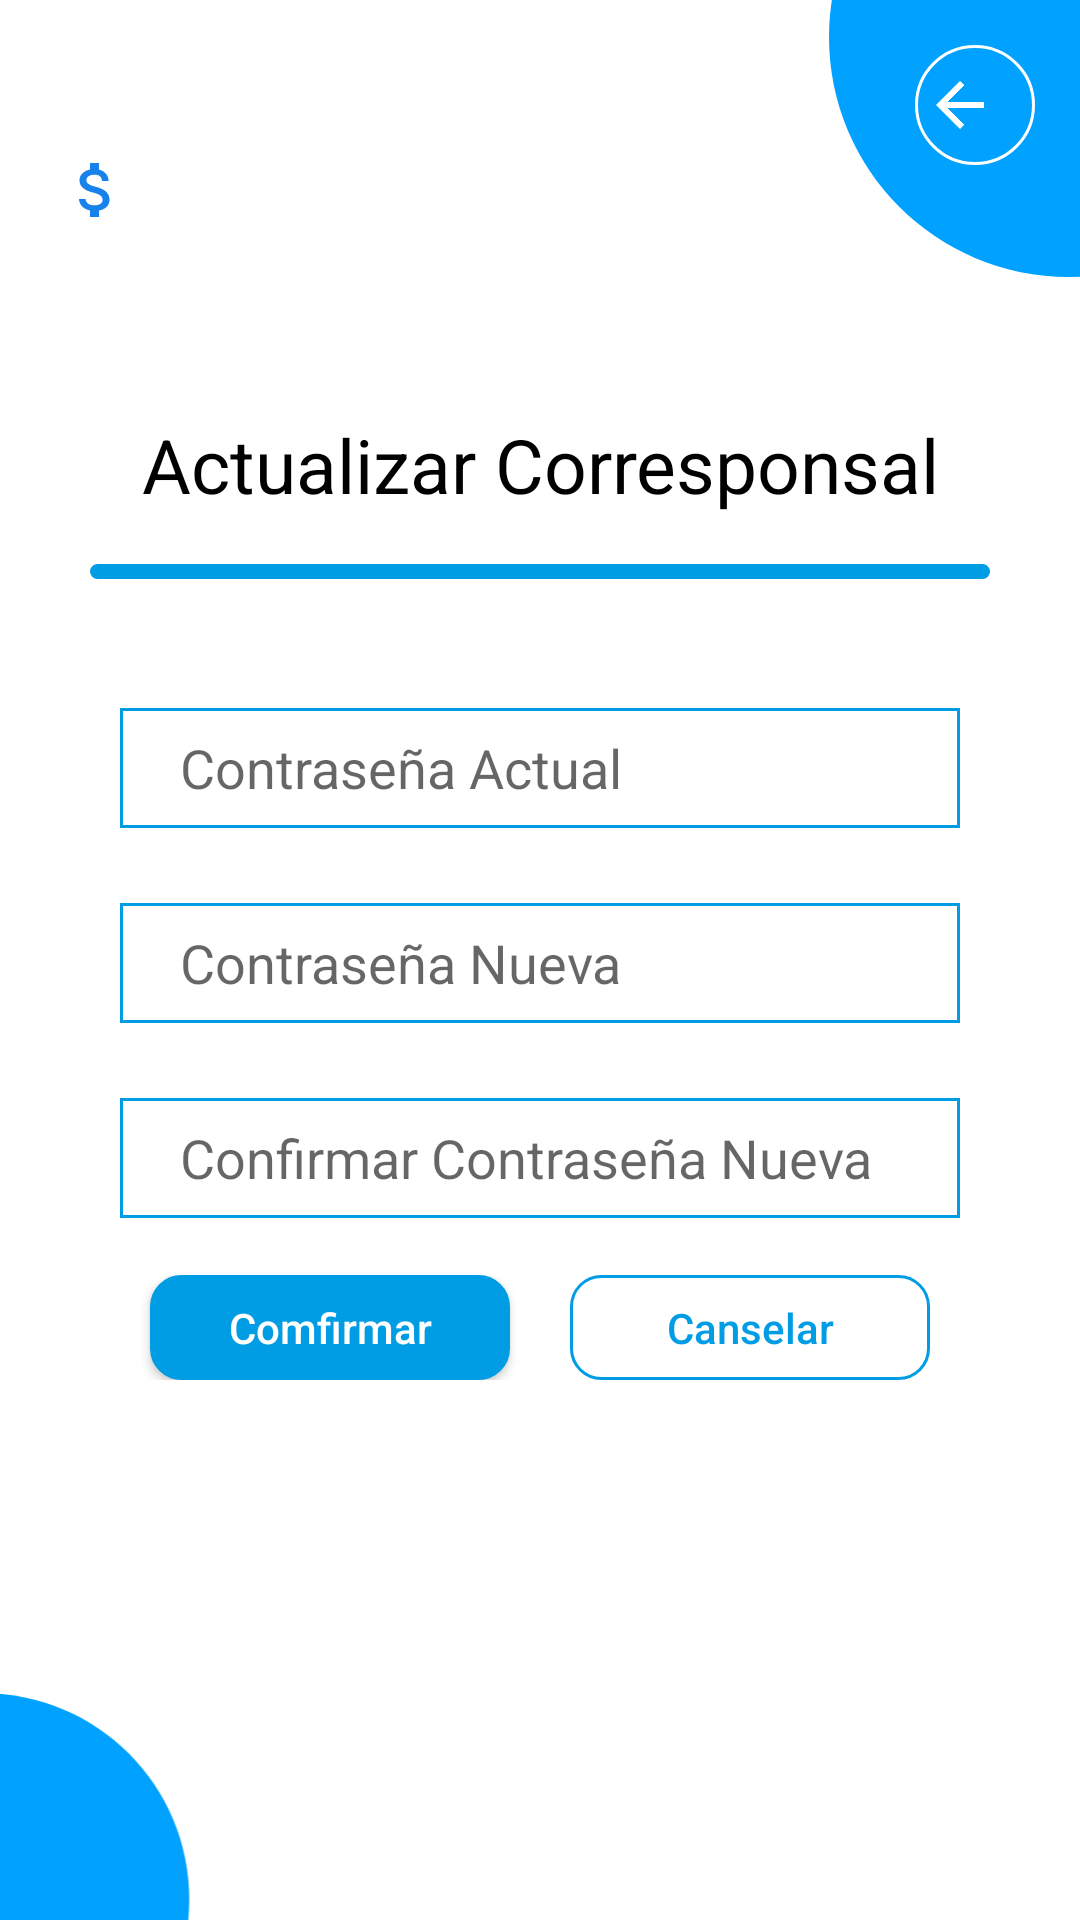

Icons on this 1080w x 1920h Android screen, each with the point to tap as point (x, y):
back: point (975, 105)
